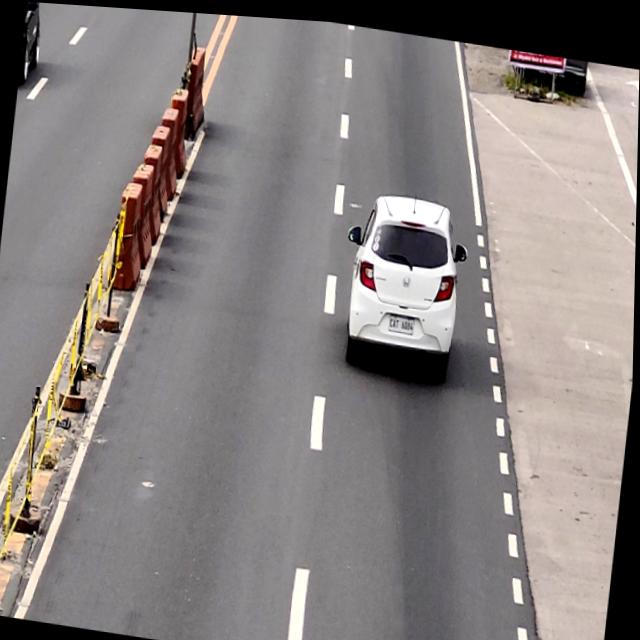Car: (337, 181, 472, 378)
License-Plate: (389, 309, 416, 329)
